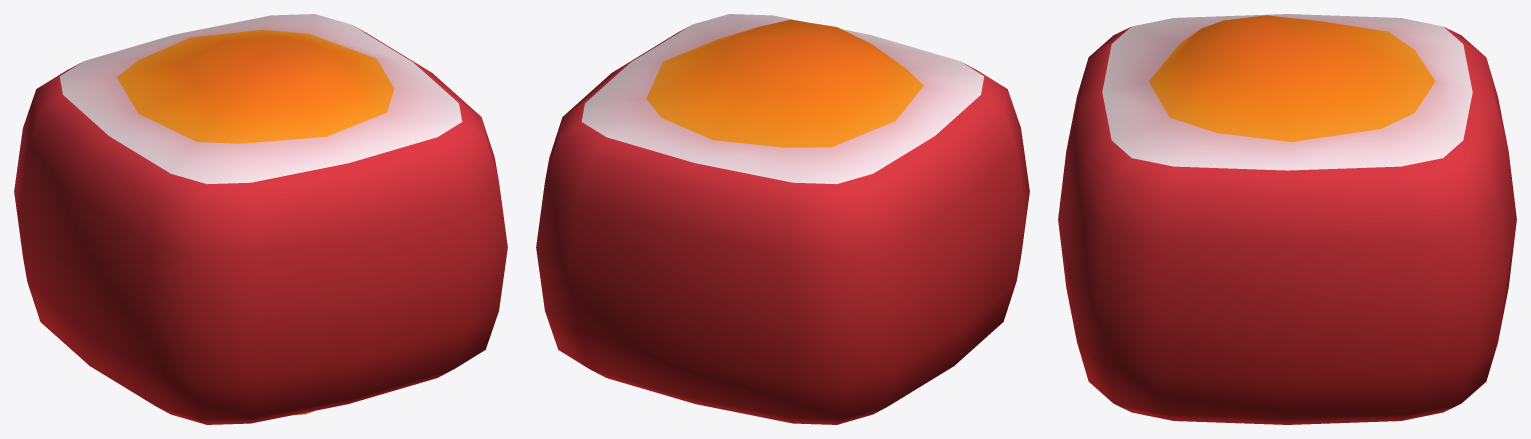
The model's file is roll_006.fbx.
3 views of the same model, side by side, from view 1: azimuth 30°, elevation 25°; view 2: azimuth 150°, elevation 25°; view 3: azimuth 270°, elevation 25° (orthographic). The views are drawn at different scales.
Parts seen in each view (by area): view 1: roll_006; view 2: roll_006; view 3: roll_006.
Part boxes in pixels (box(x1,y1,x2,y2)): roll_006: box(14, 14, 507, 424); roll_006: box(536, 14, 1029, 424); roll_006: box(1058, 14, 1516, 424).
Bounding box in the file's own units: 4.45 × 4.45 × 3.92.
